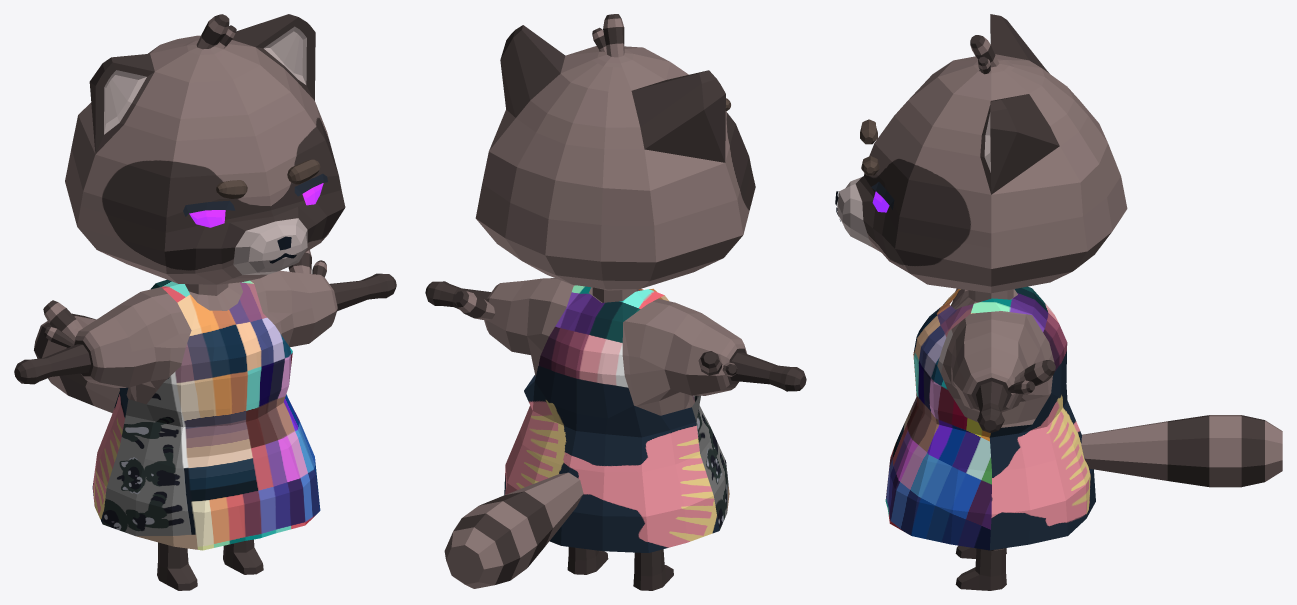
File: Test_SSClothes.fbx
3 views of the same model, side by side, from view 1: azimuth 30°, elevation 25°; view 2: azimuth 150°, elevation 25°; view 3: azimuth 270°, elevation 25° (orthographic). The views are drawn at different scales.
Visible parts, largest first — view 1: RaccoonBody01.RedBrown, Dress.BlueDarkBlue.001, RaccoonTail.RedBrown.Long.001, EyeGuy.AstraGel, Eyebrows.RBBrown; view 2: RaccoonBody01.RedBrown, Dress.BlueDarkBlue.001, RaccoonTail.RedBrown.Long.001; view 3: RaccoonBody01.RedBrown, Dress.BlueDarkBlue.001, RaccoonTail.RedBrown.Long.001, Eyebrows.RBBrown.
Boxes of the visible parts, bbox=[...] form: RaccoonBody01.RedBrown: bbox=[14, 14, 396, 590]; Dress.BlueDarkBlue.001: bbox=[92, 279, 320, 550]; RaccoonTail.RedBrown.Long.001: bbox=[34, 313, 119, 412]; EyeGuy.AstraGel: bbox=[183, 173, 327, 227]; Eyebrows.RBBrown: bbox=[216, 159, 320, 198]; RaccoonBody01.RedBrown: bbox=[425, 14, 806, 590]; Dress.BlueDarkBlue.001: bbox=[504, 285, 729, 552]; RaccoonTail.RedBrown.Long.001: bbox=[444, 472, 583, 588]; RaccoonBody01.RedBrown: bbox=[837, 14, 1127, 590]; Dress.BlueDarkBlue.001: bbox=[885, 286, 1095, 550]; RaccoonTail.RedBrown.Long.001: bbox=[1081, 415, 1282, 487]; Eyebrows.RBBrown: bbox=[860, 119, 879, 175].
Size of the model in its own units: 168 by 239 by 180.
